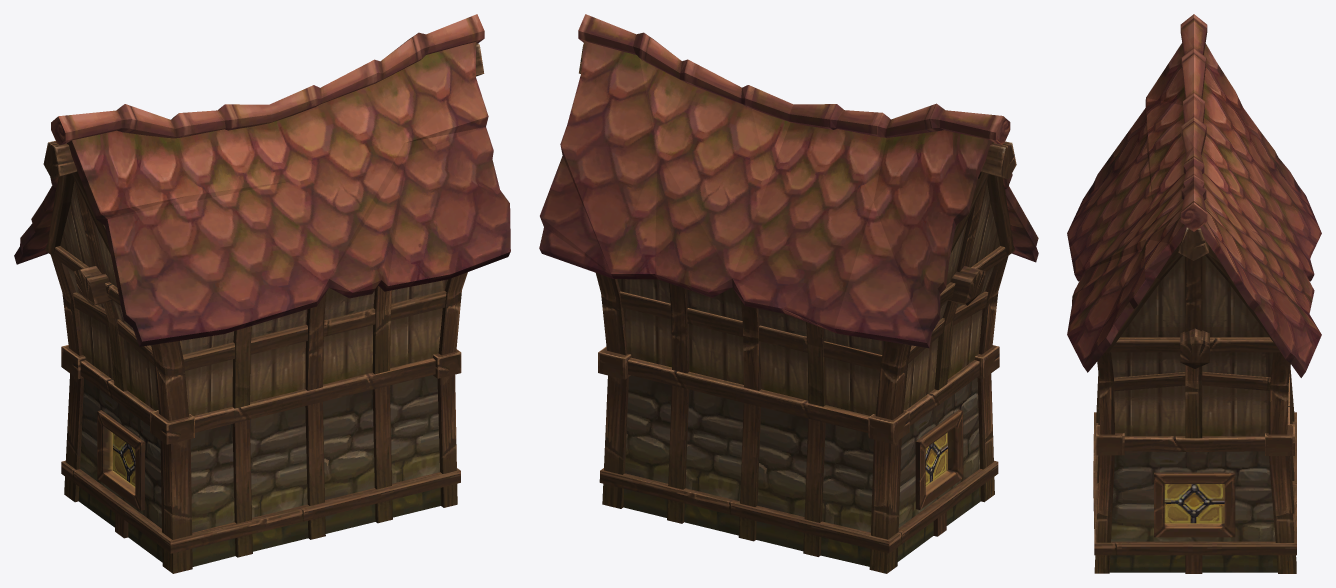
The model's file is mod_building_01_a.fbx.
3 renders of one model, left to right at view 1: azimuth 30°, elevation 25°; view 2: azimuth 150°, elevation 25°; view 3: azimuth 270°, elevation 25°, orthographic. The views are drawn at different scales.
Parts seen in each view (by area): view 1: obj1.058; view 2: obj1.058; view 3: obj1.058.
Part boxes in pixels (<box>): obj1.058: <box>14,14,510,573</box>; obj1.058: <box>539,14,1038,573</box>; obj1.058: <box>1067,14,1321,573</box>.
Size of the model in its own units: 14.22 by 13.87 by 7.95.
